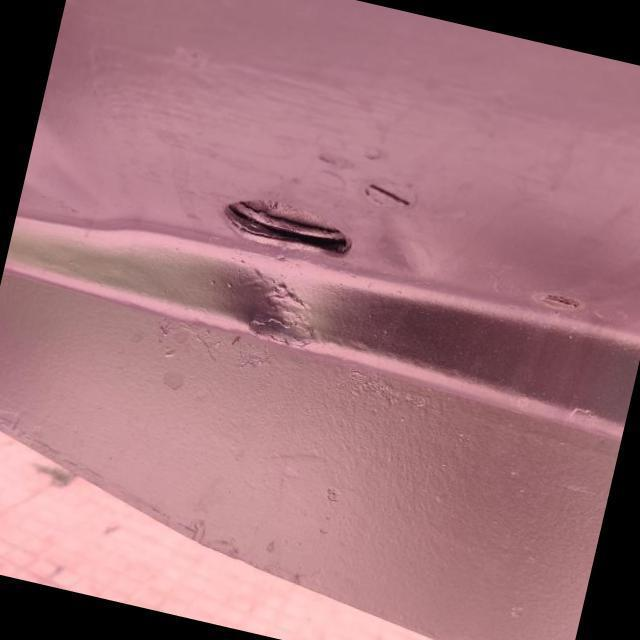dent: (218, 258, 316, 346)
